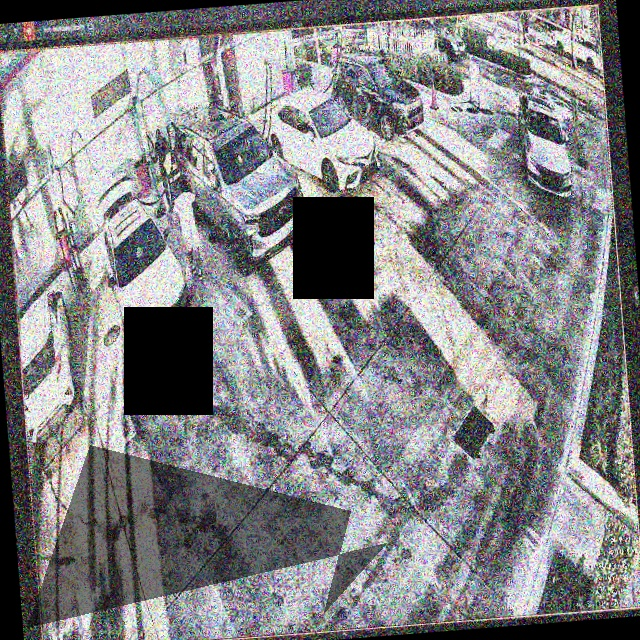Car: (169, 98, 309, 281), (97, 164, 198, 357), (261, 85, 381, 198)
